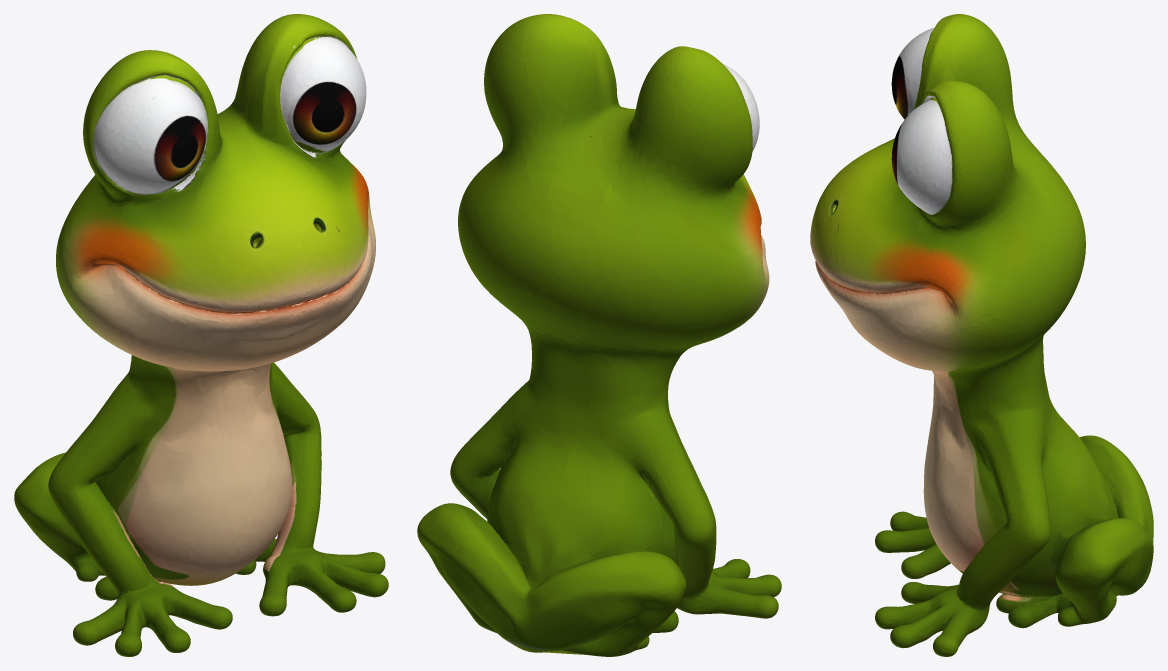
File: B_remeshed.glb
3 renders of one model, left to right at view 1: azimuth 30°, elevation 25°; view 2: azimuth 150°, elevation 25°; view 3: azimuth 270°, elevation 25°, orthographic. The views are drawn at different scales.
Parts seen in each view (by area): view 1: output_unwrapped; view 2: output_unwrapped; view 3: output_unwrapped.
Part boxes in pixels (left/top/right/bottom): output_unwrapped: left=14, top=14, right=388, bottom=656; output_unwrapped: left=417, top=14, right=781, bottom=656; output_unwrapped: left=810, top=14, right=1153, bottom=656.
Bounding box in the file's own units: 1.09 × 1.9 × 1.11.
Materials: 1 (1 with a texture image).
